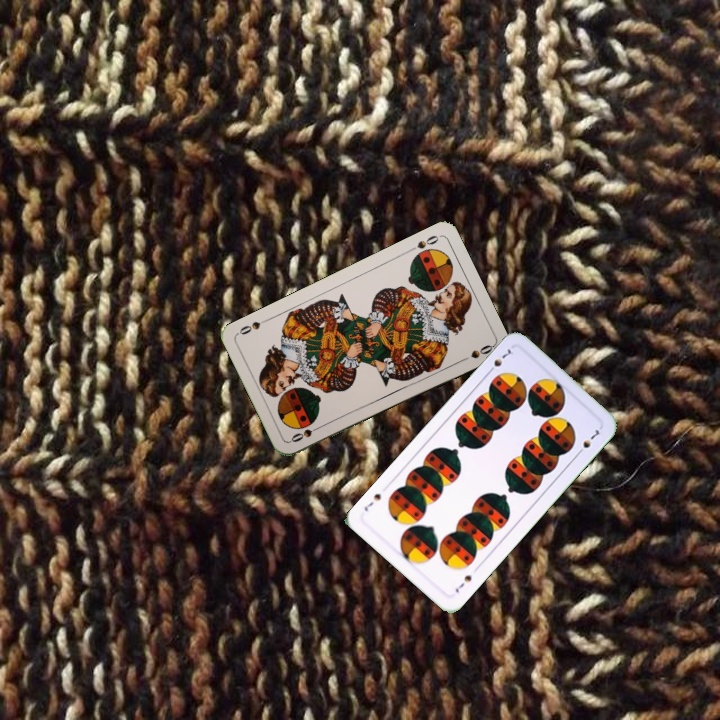S7: (483, 345, 516, 376), (451, 571, 474, 595)
SO: (287, 421, 325, 445), (404, 231, 441, 255)
